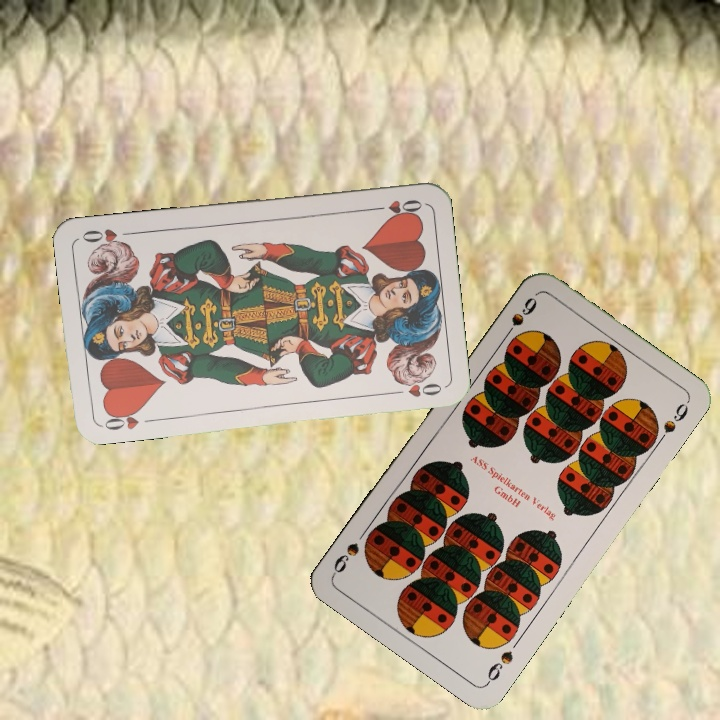HO: (366, 195, 425, 218), (97, 405, 144, 433)
S9: (499, 293, 540, 343), (482, 646, 516, 687)
